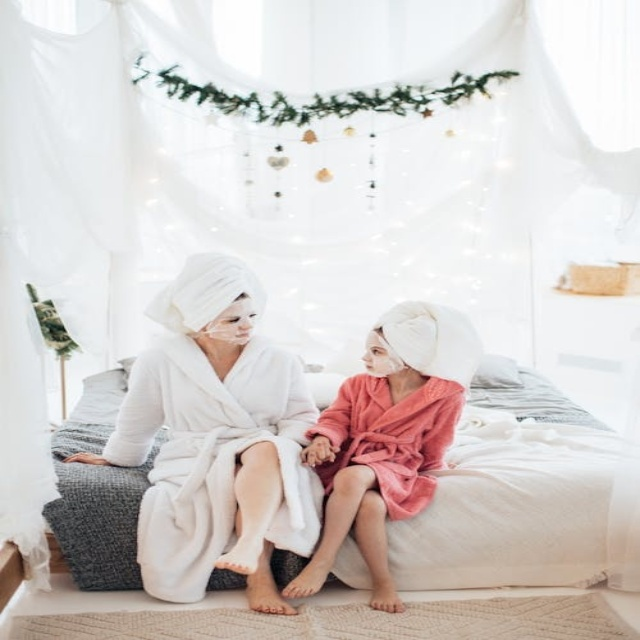Sin_gafas: (214, 308, 261, 326), (362, 340, 394, 358)
Sin_guantes: (293, 429, 346, 467), (61, 452, 109, 465)
Sin_mascara: (223, 329, 256, 345), (361, 358, 387, 375)
